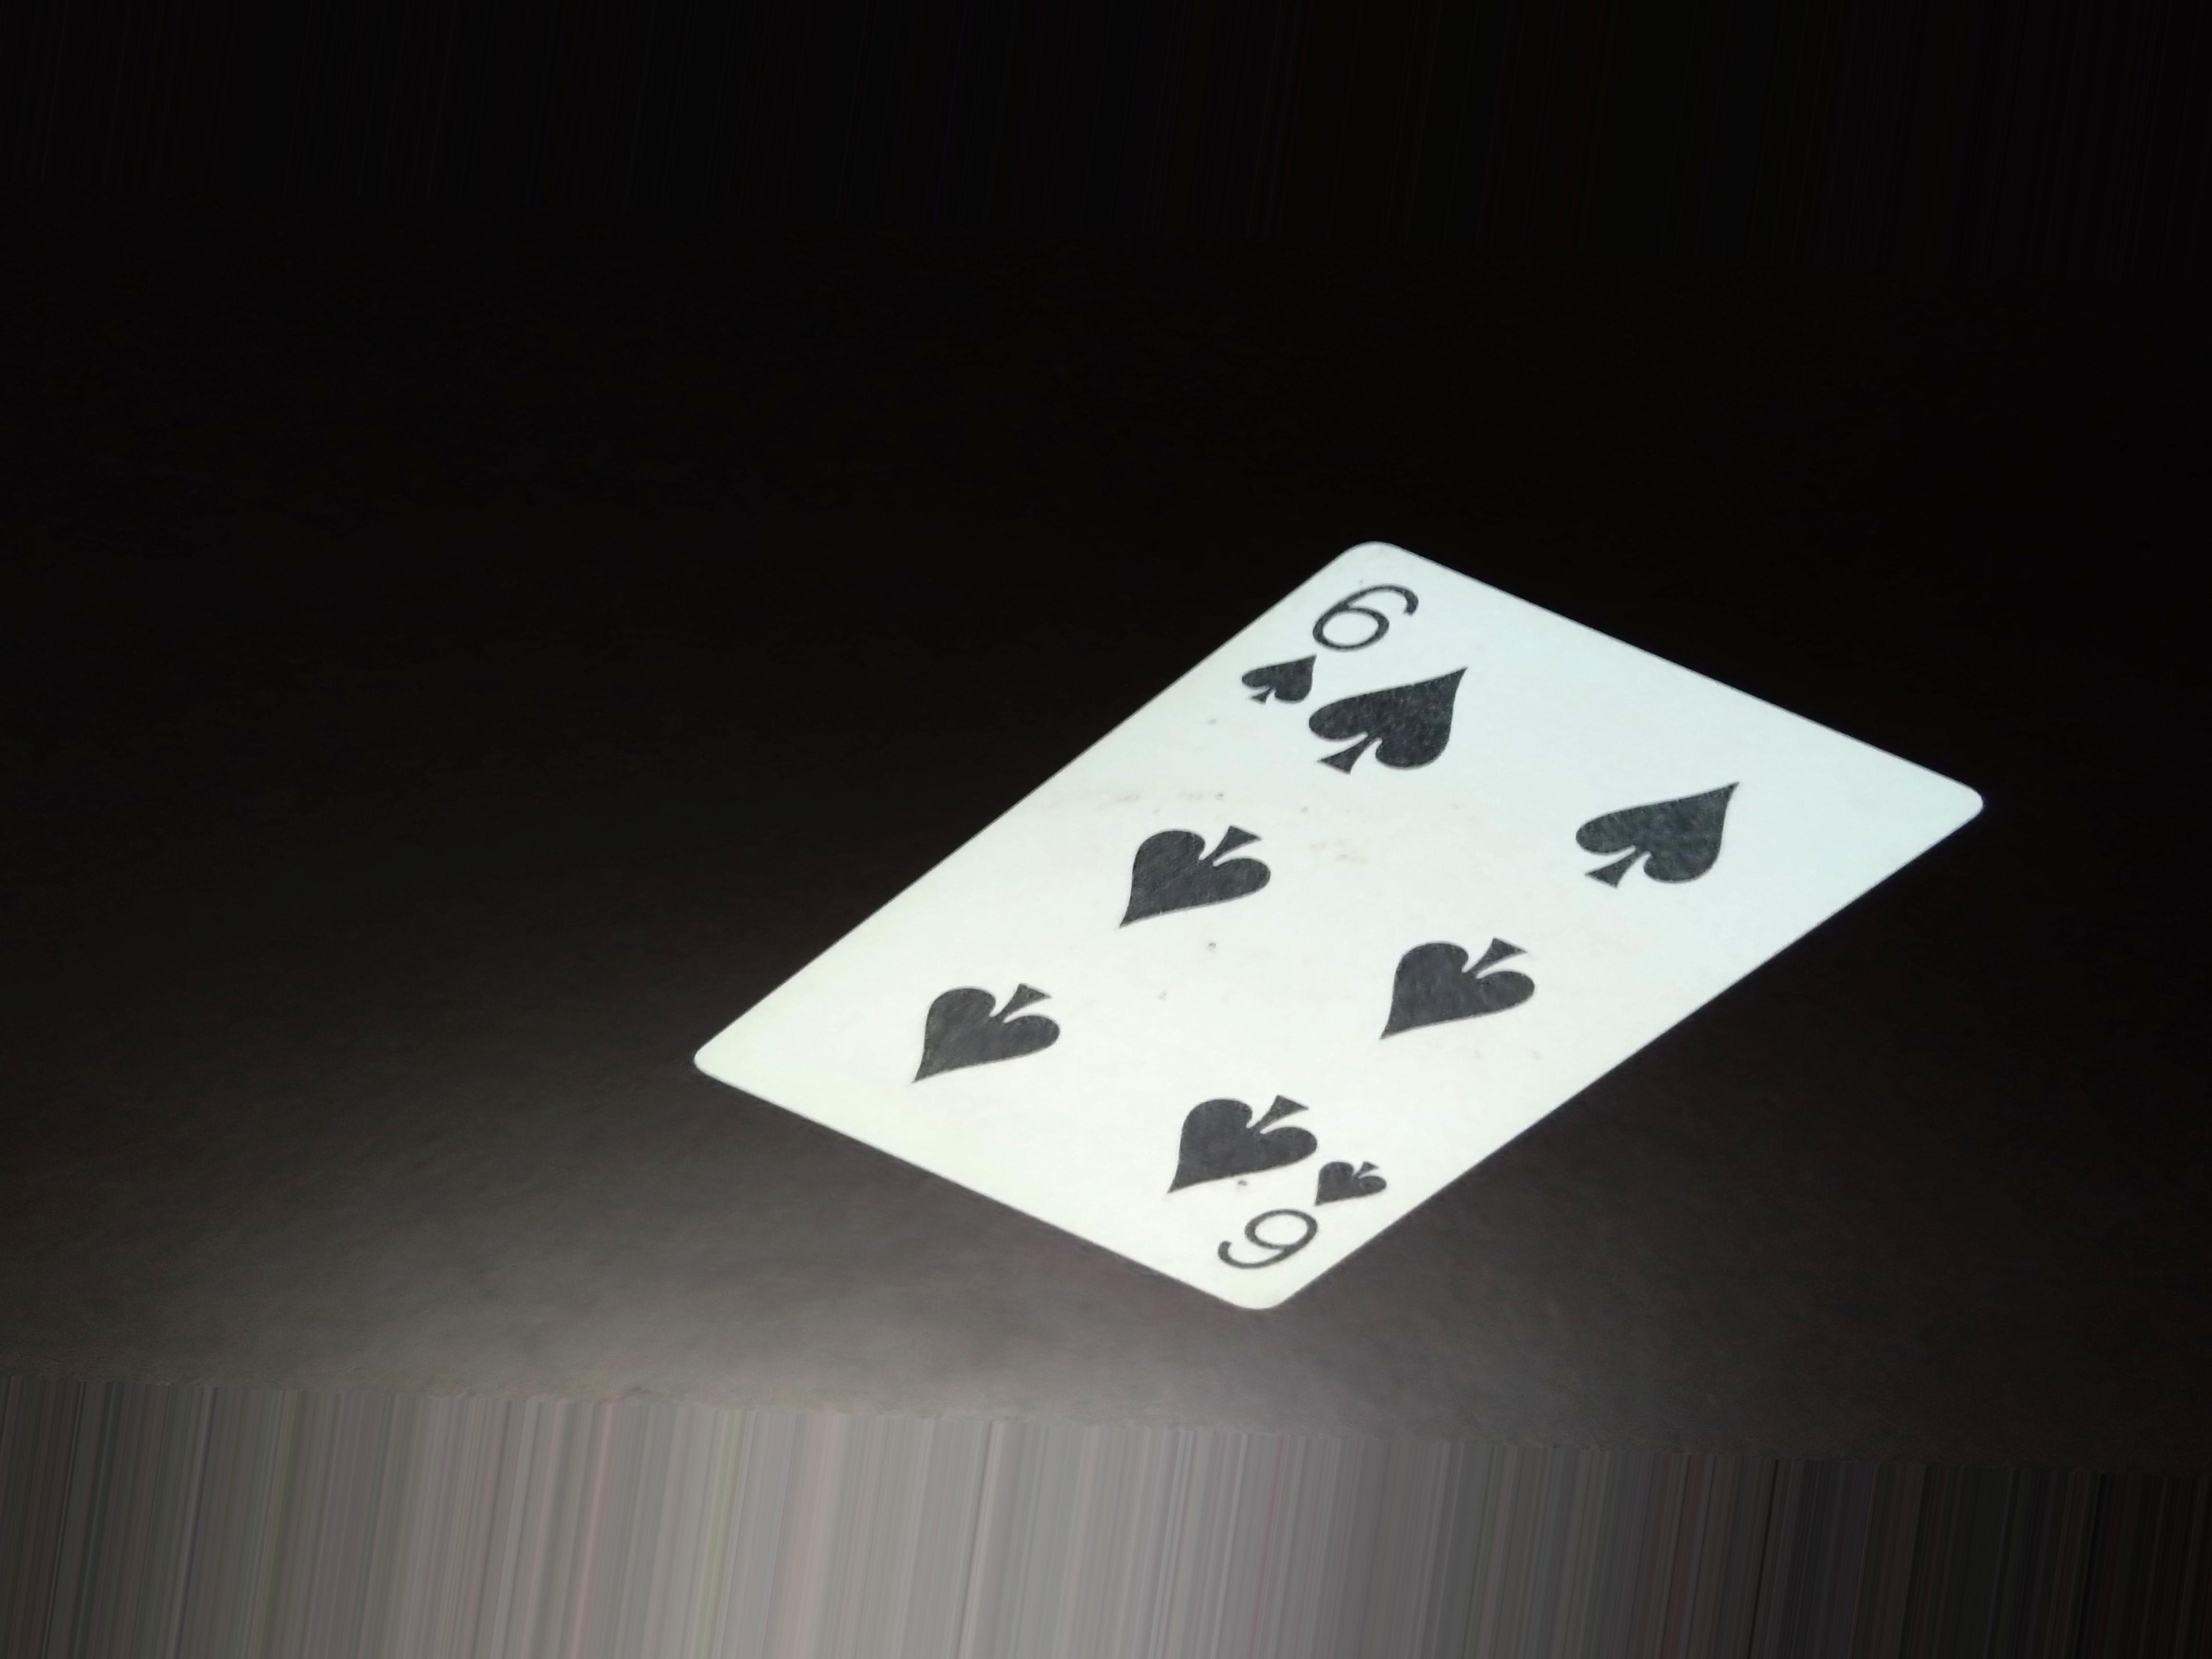6S: (1217, 558, 1437, 737)
